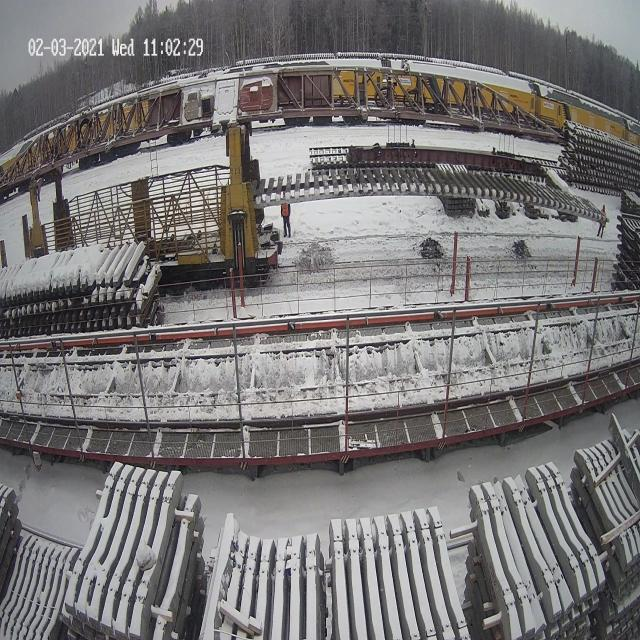Person: (280, 200, 291, 238), (596, 203, 606, 238)
